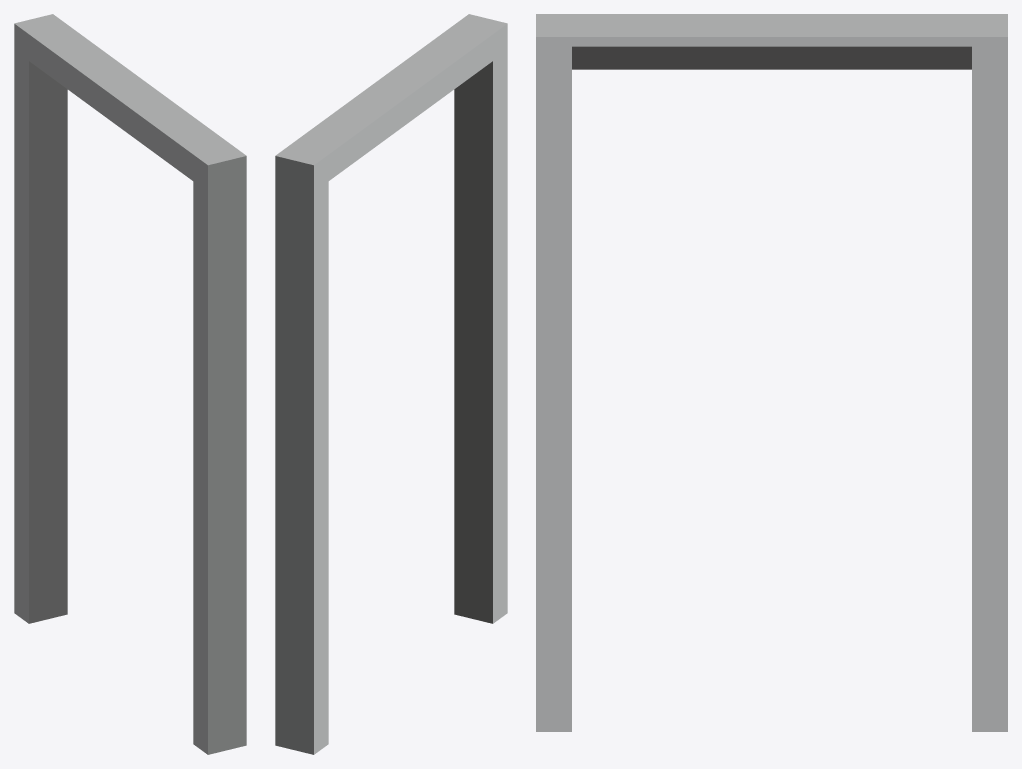
Rendered from M_woshimenkuangin01.FBX.
The picture shows the model from 3 angles, left to right: view 1: azimuth 30°, elevation 25°; view 2: azimuth 150°, elevation 25°; view 3: azimuth 270°, elevation 25°; orthographic projection. The views are drawn at different scales.
Parts seen in each view (by area): view 1: M_woshimenkuangin01; view 2: M_woshimenkuangin01; view 3: M_woshimenkuangin01.
Boxes of the visible parts, box(x1,y1,x2,y2) form: M_woshimenkuangin01: box(14, 14, 246, 754); M_woshimenkuangin01: box(275, 14, 507, 754); M_woshimenkuangin01: box(536, 14, 1007, 731).
Size of the model in its own units: 0.2023 by 2.94 by 1.75.
